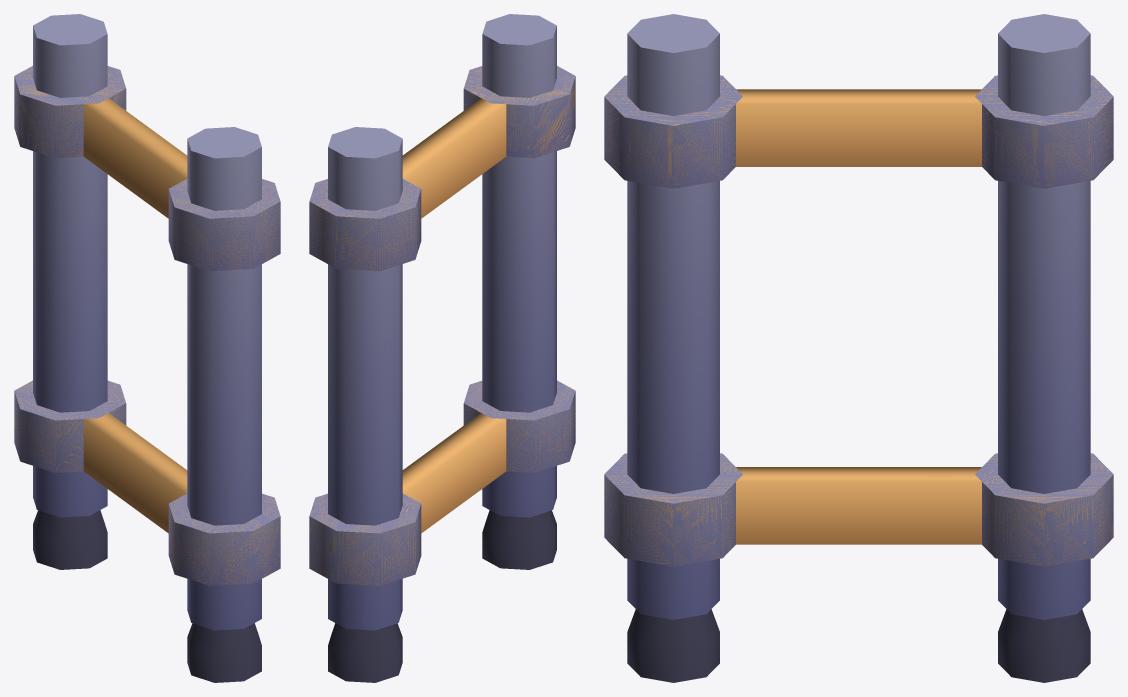
File: kenney-factory-structure-yellow-high.glb
The picture shows the model from 3 angles, left to right: view 1: azimuth 30°, elevation 25°; view 2: azimuth 150°, elevation 25°; view 3: azimuth 270°, elevation 25°; orthographic projection. The views are drawn at different scales.
Parts seen in each view (by area): view 1: structure-yellow-high; view 2: structure-yellow-high; view 3: structure-yellow-high.
Boxes of the visible parts, x1=… form: structure-yellow-high: x1=14, y1=14, x2=280, y2=682; structure-yellow-high: x1=309, y1=14, x2=575, y2=682; structure-yellow-high: x1=604, y1=14, x2=1113, y2=682.
Size of the model in its own units: 0.45 by 2.25 by 1.65.
Materials: 1 (1 with a texture image).
